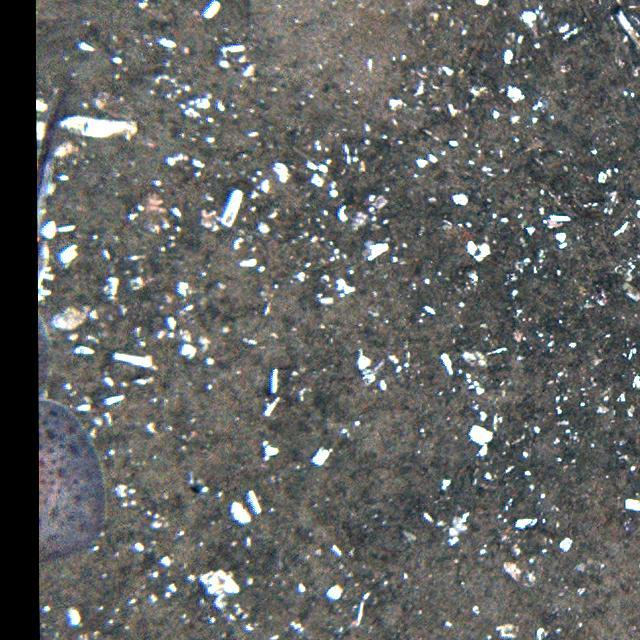skate: (38, 94, 112, 568)
